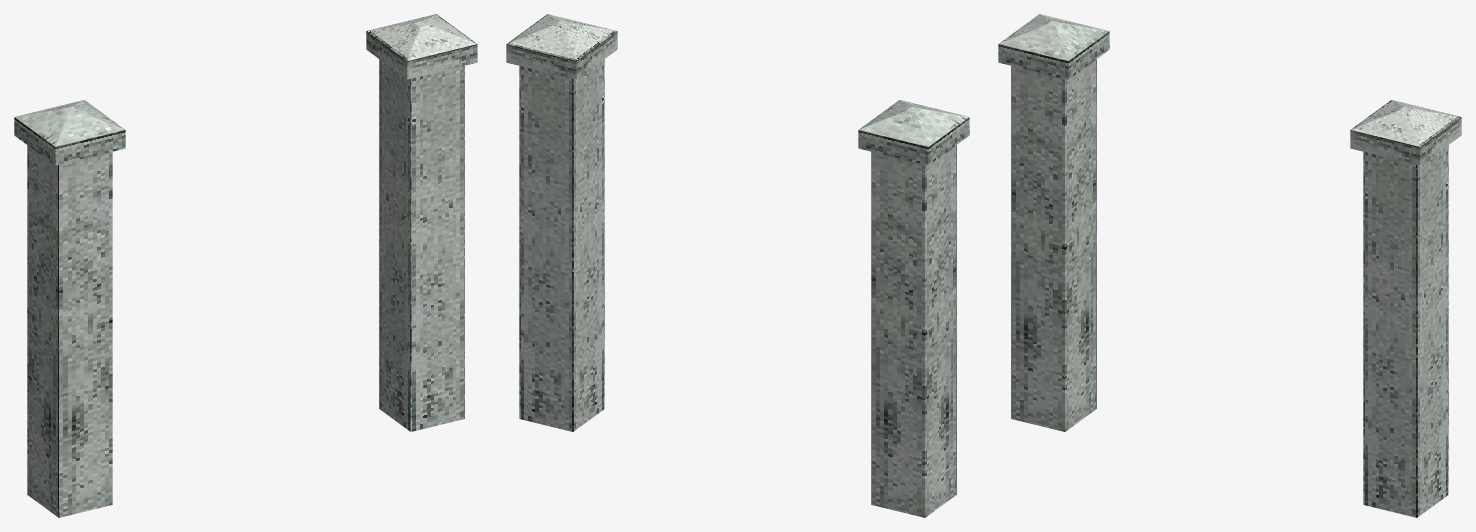
The model's file is white_picket_fence_gate_poles.glb.
3 views of the same model, side by side, from view 1: azimuth 30°, elevation 25°; view 2: azimuth 150°, elevation 25°; view 3: azimuth 330°, elevation 25° (orthographic).
Parts seen in each view (by area): view 1: white_picket_fence_gate_poles; view 2: white_picket_fence_gate_poles; view 3: white_picket_fence_gate_poles.
Boxes of the visible parts, <box> form: white_picket_fence_gate_poles: <box>14,14,477,517</box>; white_picket_fence_gate_poles: <box>506,14,969,517</box>; white_picket_fence_gate_poles: <box>998,14,1461,517</box>.
Size of the model in its own units: 1.93 by 1.71 by 0.3266.
Materials: 1 (1 with a texture image).
